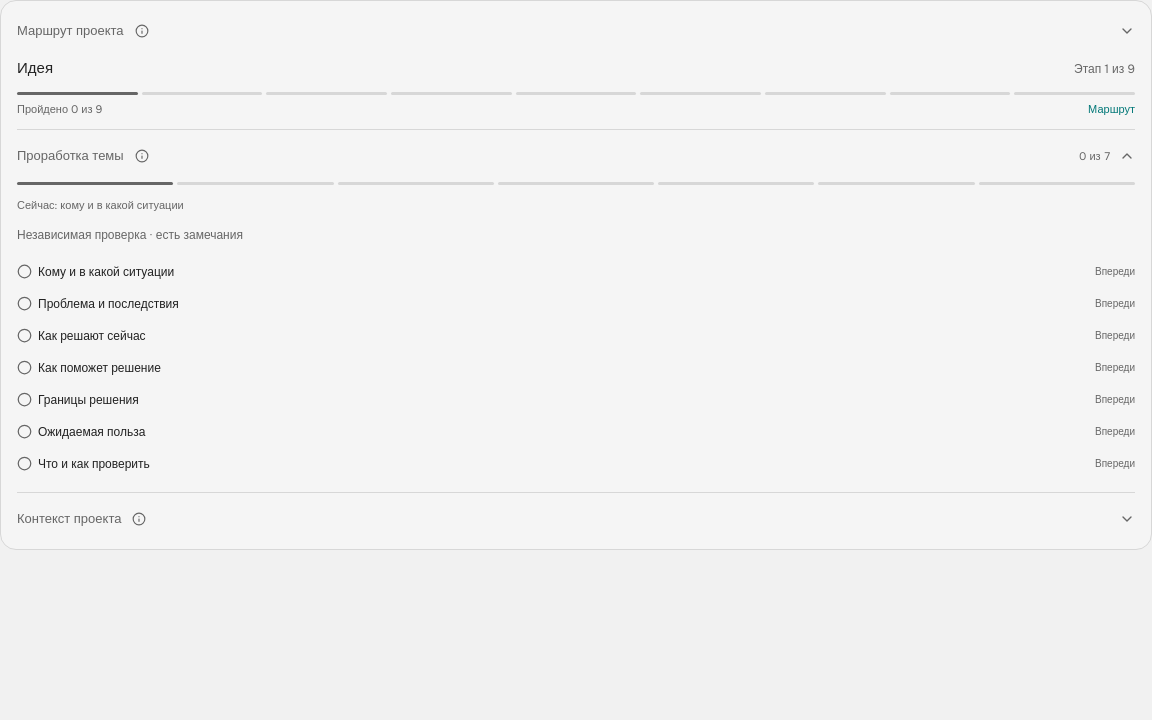
Test: the panel shows separate help/result concerns and exposes concrete failures on demand
This screenshot has width=1152, height=720.
Click the heading "Независимая проверка · есть замечания" at point(130, 234), box [17,226,243,242]
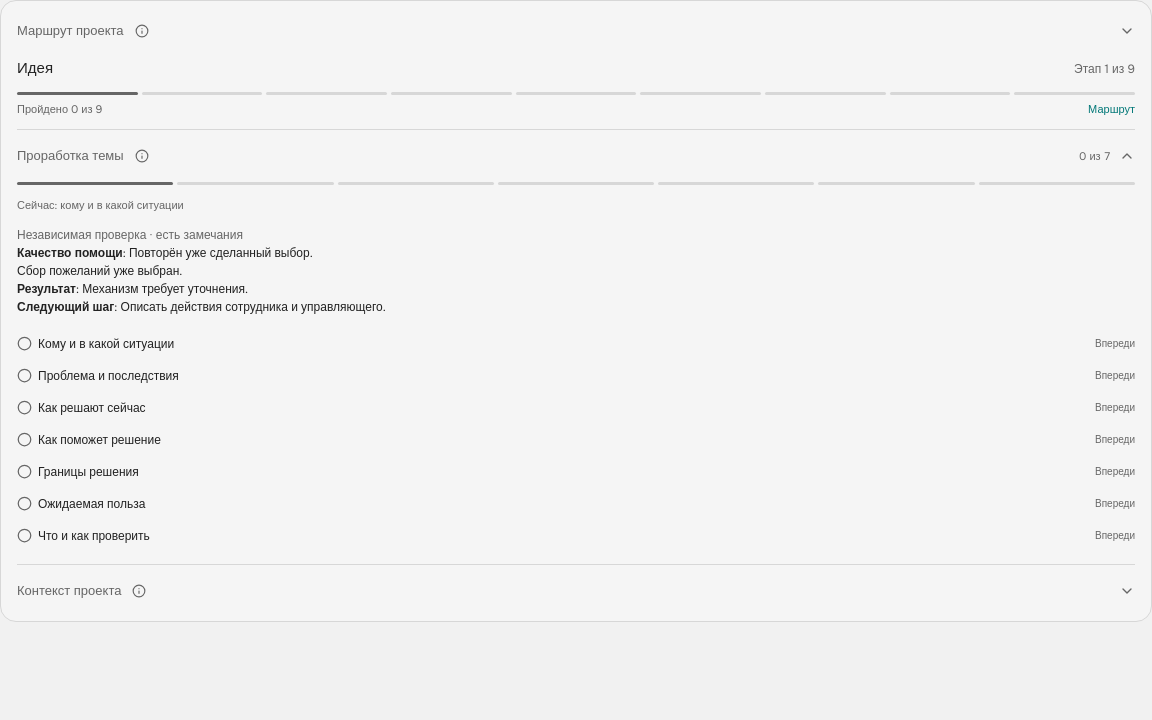
Check: the text "Качество помощи:" is shown, box [17,244,126,260]
Check: the text "Результат:" is shown, box [17,280,79,296]
Check: the text "Сбор пожеланий уже выбран." is shown, box [17,262,182,278]
